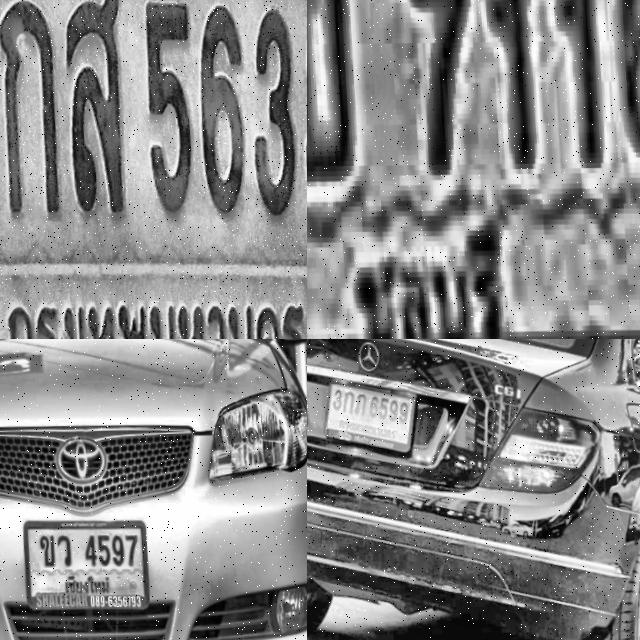license-plate: (307, 0, 640, 339), (0, 0, 307, 339), (11, 509, 146, 628), (319, 377, 414, 454)
